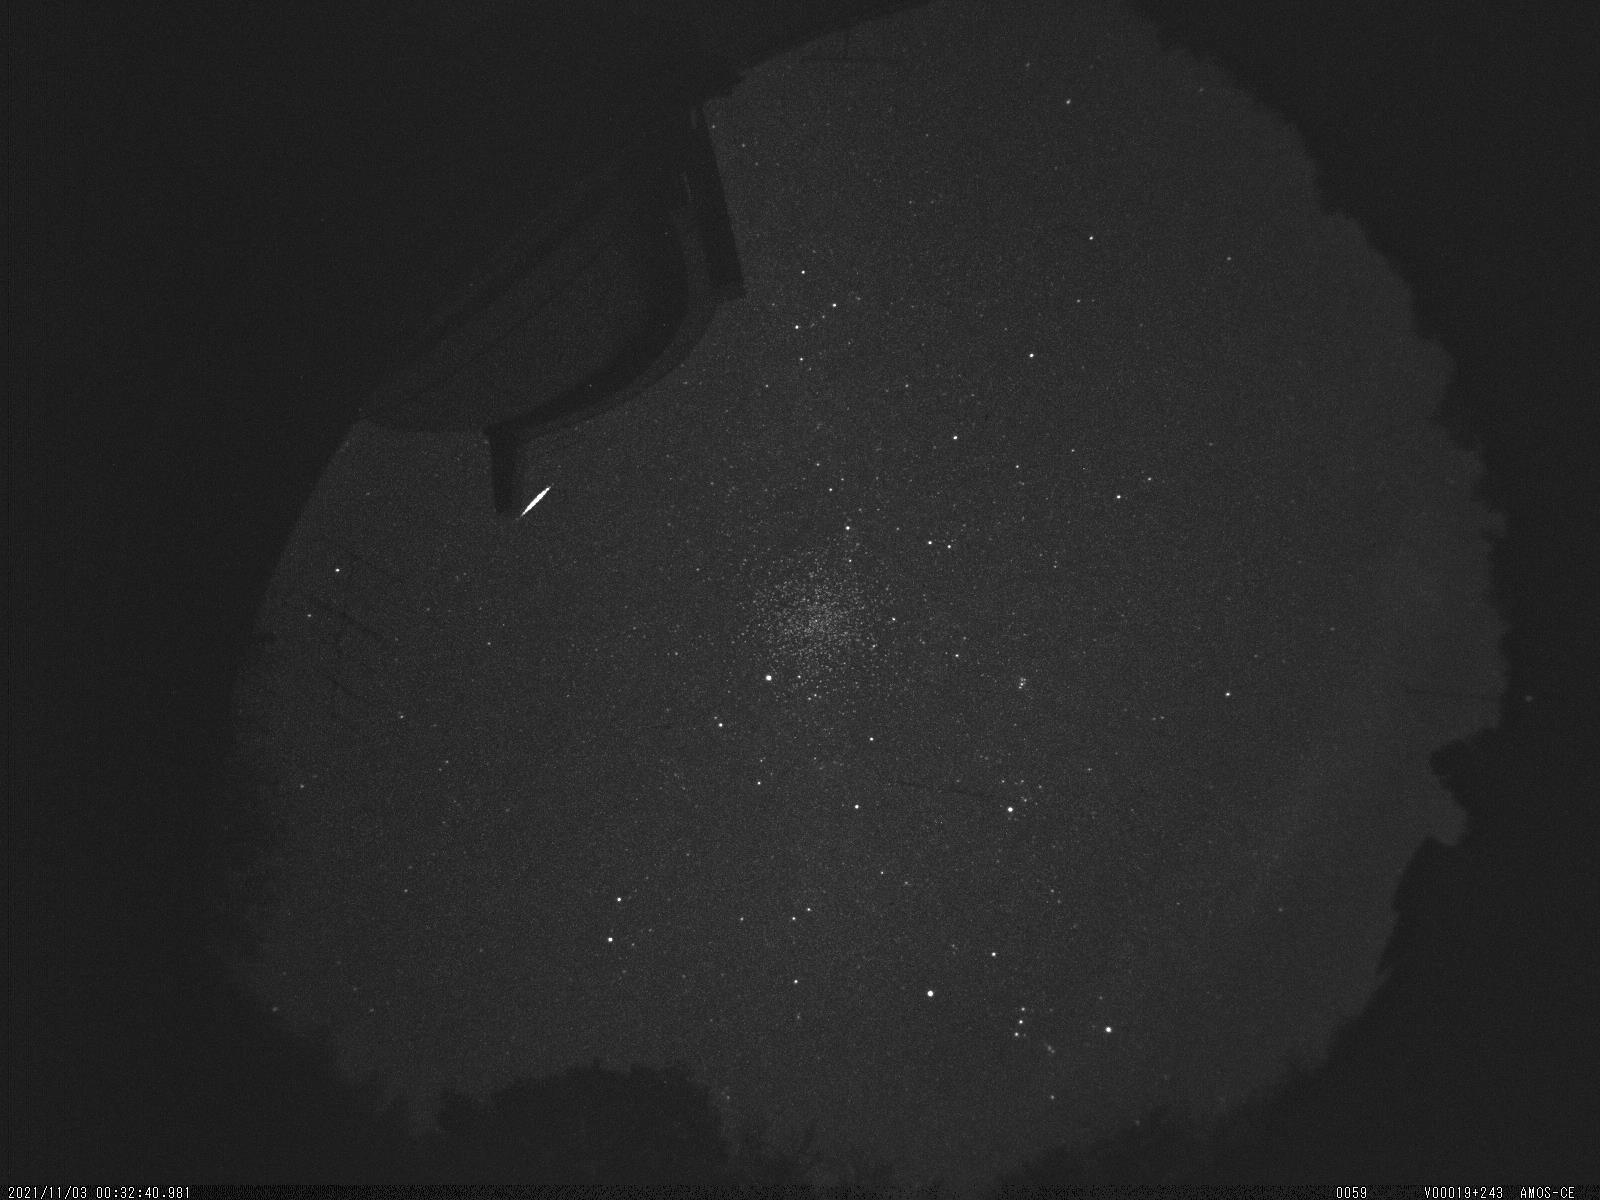Meteor: (508, 470, 565, 532)
